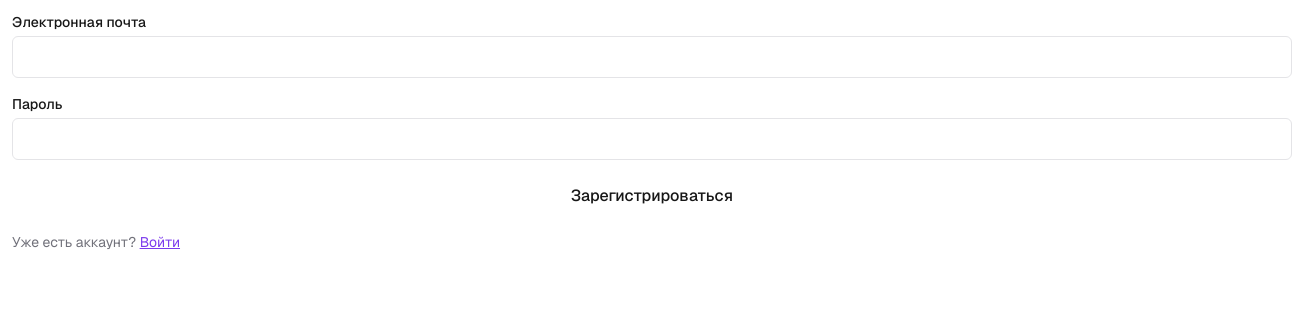
Scenario: SignUpForm feedback tones › shows a sign-up failure inside the danger alert
Type "reader@example.com" into the field labelled "Электронная почта".
click(652, 57); type("reader@example.com")  # box x1=12 y1=36 x2=1292 y2=78
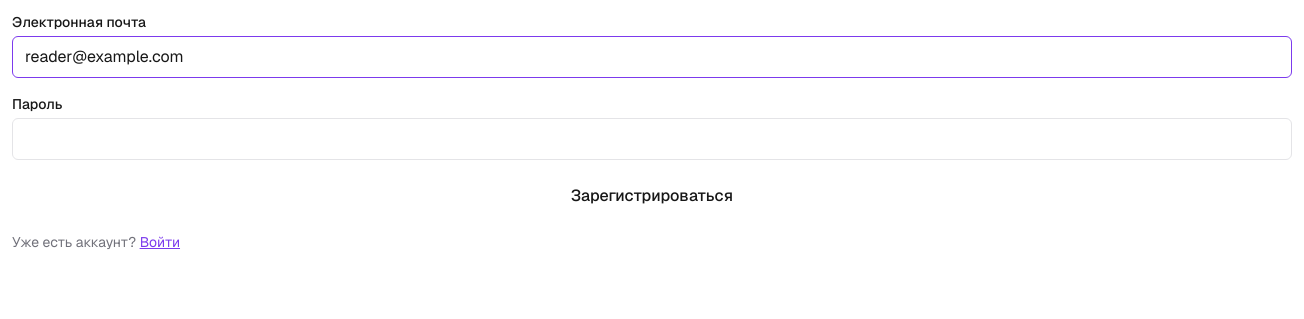
Type "secret-password-1" into the password field labelled "Пароль".
click(652, 139); type("secret-password-1")  # box x1=12 y1=118 x2=1292 y2=160
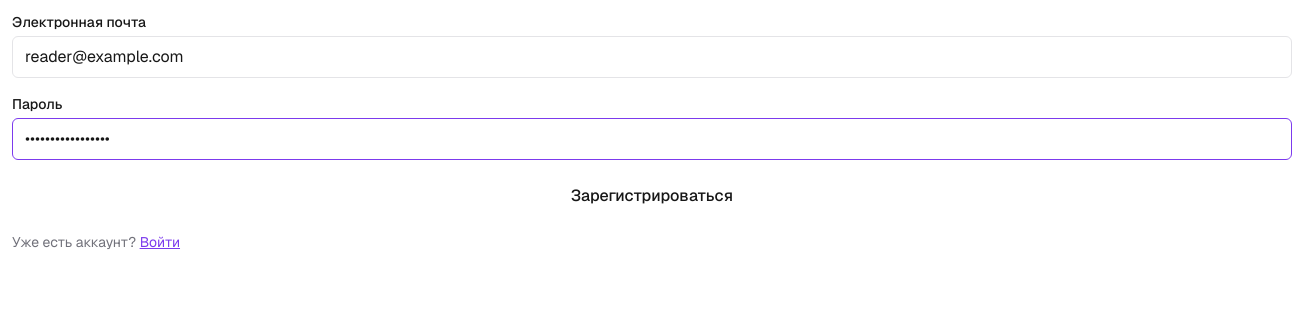
Click the button "Зарегистрироваться".
click(652, 196)  # box x1=12 y1=176 x2=1292 y2=216
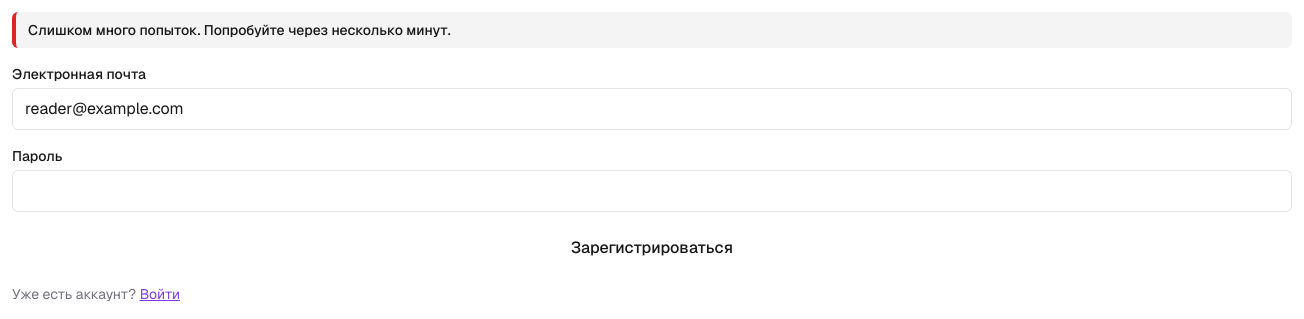
Check: the message reads "Слишком много попыток. Попробуйте через несколько минут.", box x1=28 y1=21 x2=451 y2=39
